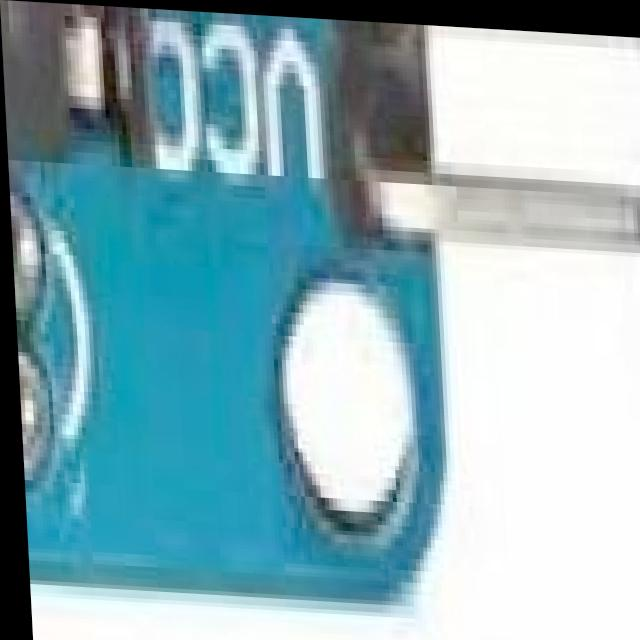IC: (0, 0, 110, 145)
clock: (9, 209, 46, 491)
connector: (332, 15, 640, 250)
